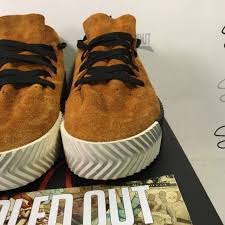adidas AW Skate Sand: (58, 1, 168, 184)
